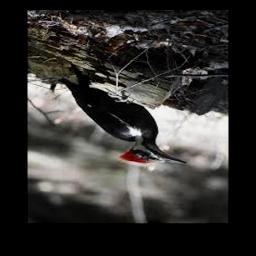Woodpecker: (59, 68, 186, 166)
